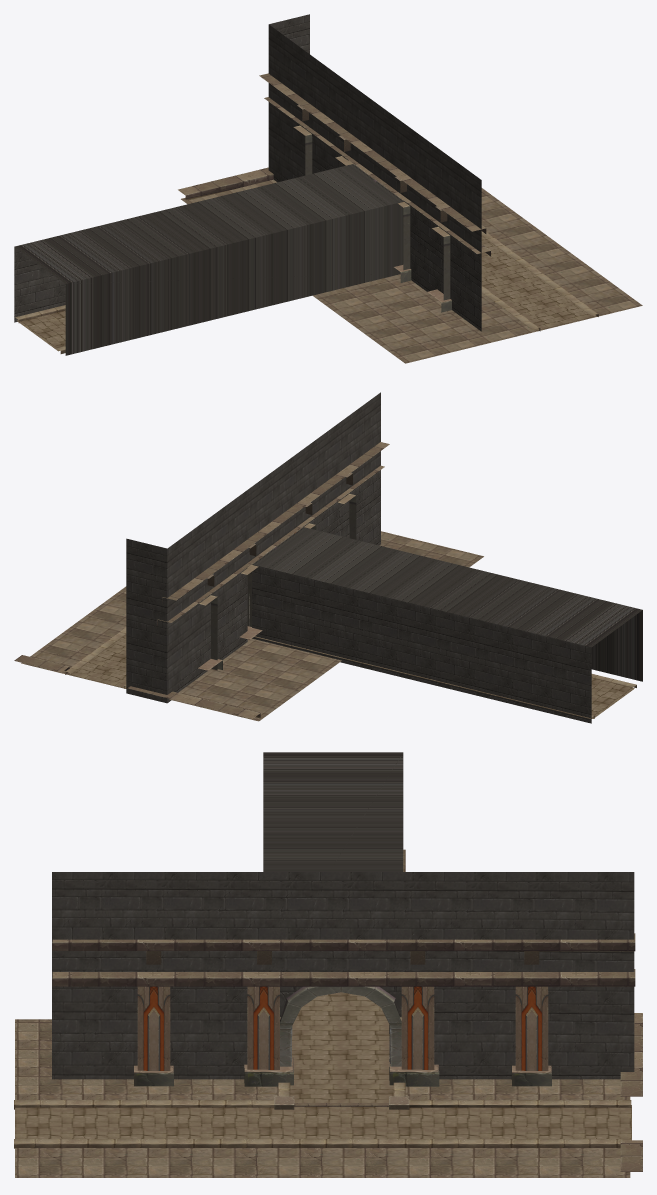
File: terrain_section03_guanka12_bj04.FBX
3 renders of one model, top to bottom at view 1: azimuth 30°, elevation 25°; view 2: azimuth 150°, elevation 25°; view 3: azimuth 270°, elevation 25°, orthographic. The views are drawn at different scales.
Visible parts, largest first — view 1: terrain_section03_guanka12_bj04; view 2: terrain_section03_guanka12_bj04; view 3: terrain_section03_guanka12_bj04.
Part boxes in pixels (<box>): terrain_section03_guanka12_bj04: <box>14,14,642,363</box>; terrain_section03_guanka12_bj04: <box>14,392,642,723</box>; terrain_section03_guanka12_bj04: <box>14,752,642,1177</box>.
Size of the model in its own units: 49.25 by 15.83 by 40.16.
